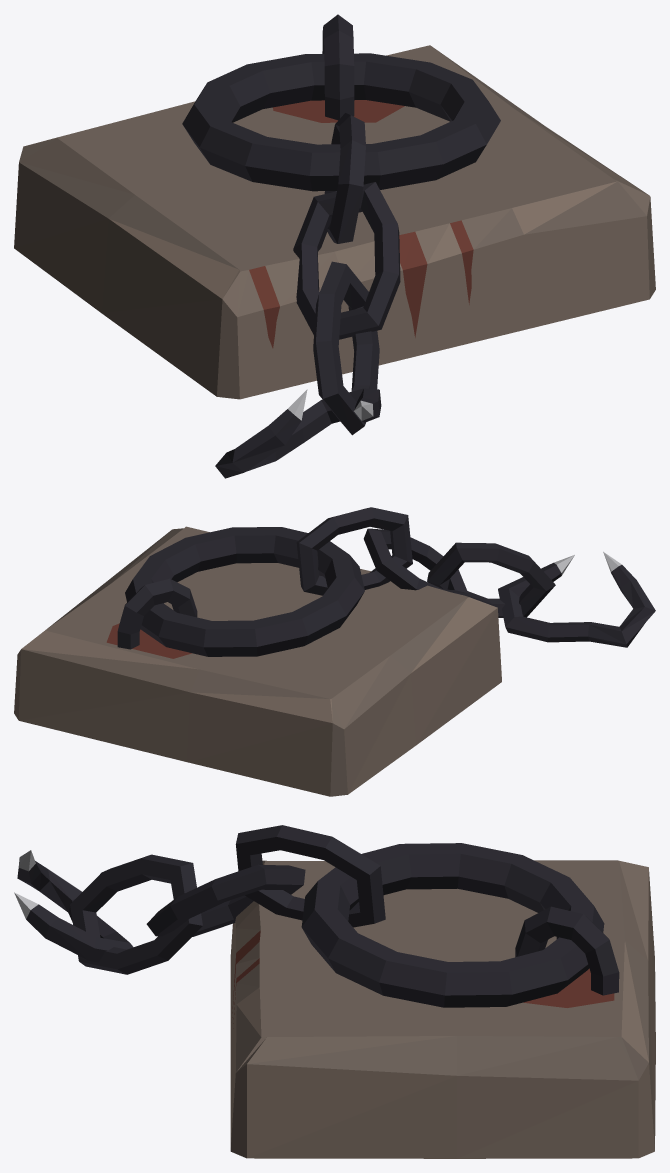
File: broken-dragon-shackle-624412.glb
3 views of the same model, one above another, from view 1: azimuth 30°, elevation 25°; view 2: azimuth 150°, elevation 25°; view 3: azimuth 270°, elevation 25° (orthographic). The views are drawn at different scales.
Parts seen in each view (by area): view 1: shackle; view 2: shackle; view 3: shackle.
Boxes of the visible parts, bbox=[...] form: shackle: bbox=[14, 14, 655, 478]; shackle: bbox=[14, 507, 655, 796]; shackle: bbox=[14, 825, 655, 1158].
Bounding box in the file's own units: 1.82 × 0.6719 × 1.97.
